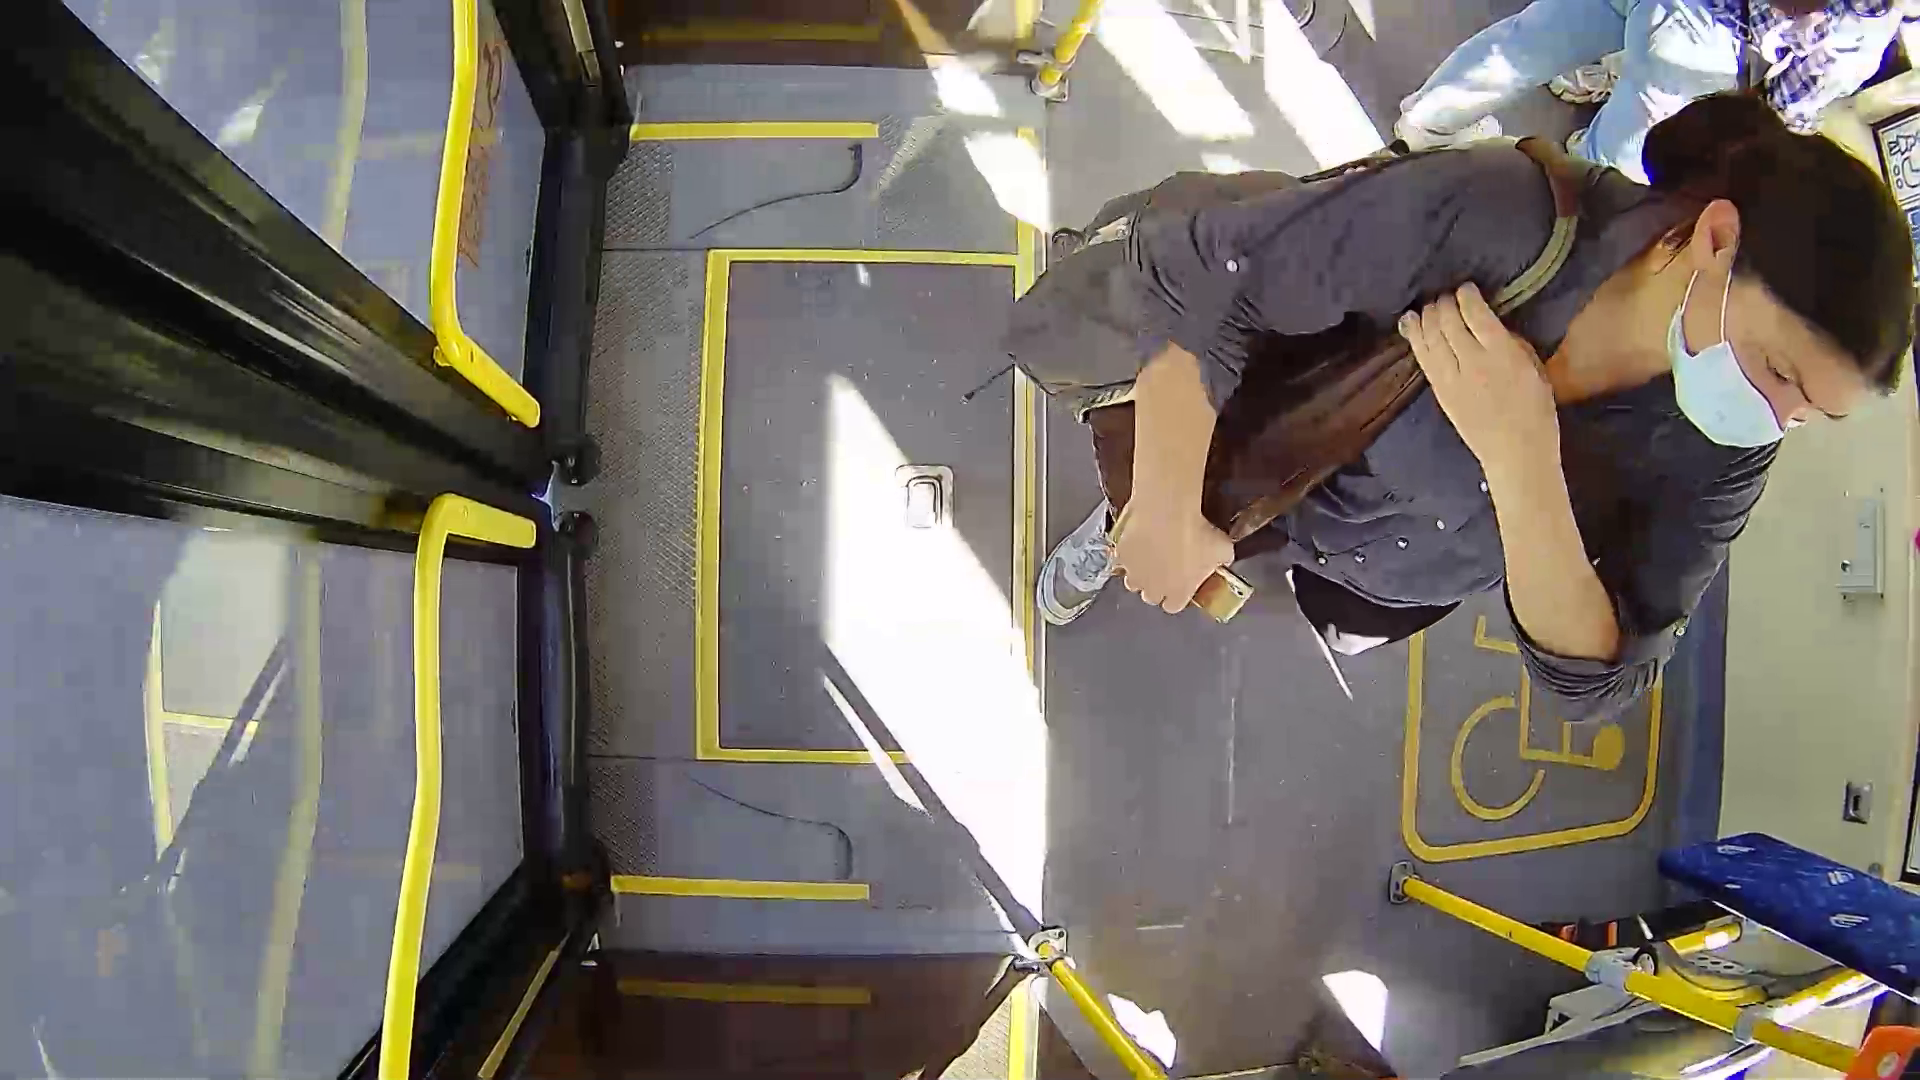person: (1041, 91, 1920, 756)
